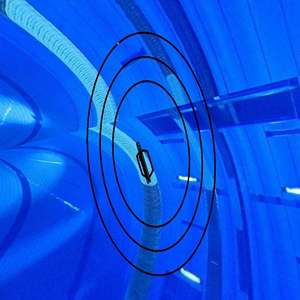circle: (86, 25, 223, 287)
submarine: (130, 139, 158, 187)
